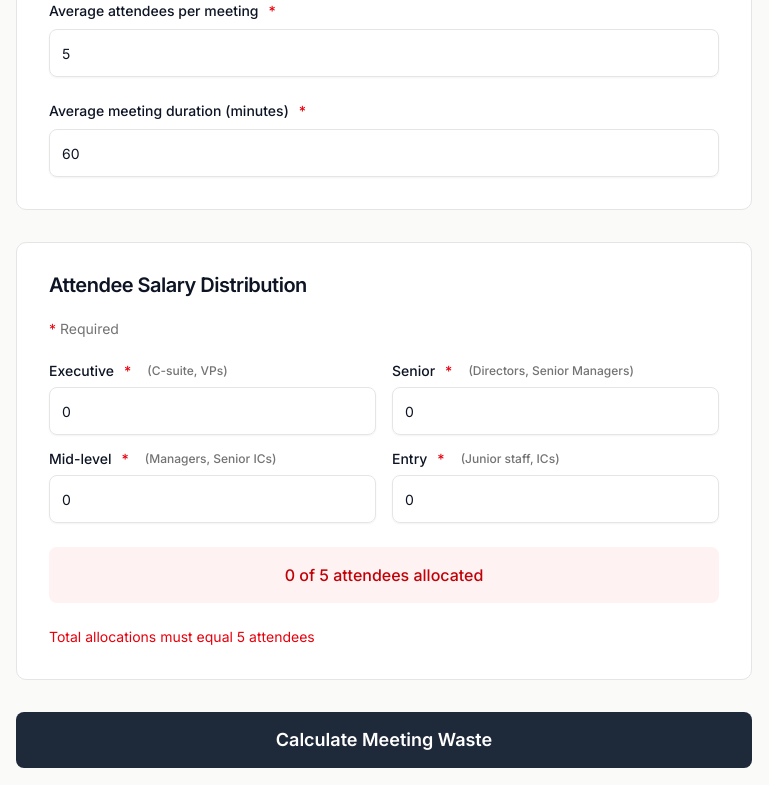
Test: CalculatorPage › form submission › shows validation error and disables button after invalid submission
The width and height of the screenshot is (769, 785).
(page scrolled)
// First click - validation runs, button becomes disabled afterward
Click the button "Calculate Meeting Waste": (384, 740) [16,712,752,768]
(page scrolled)
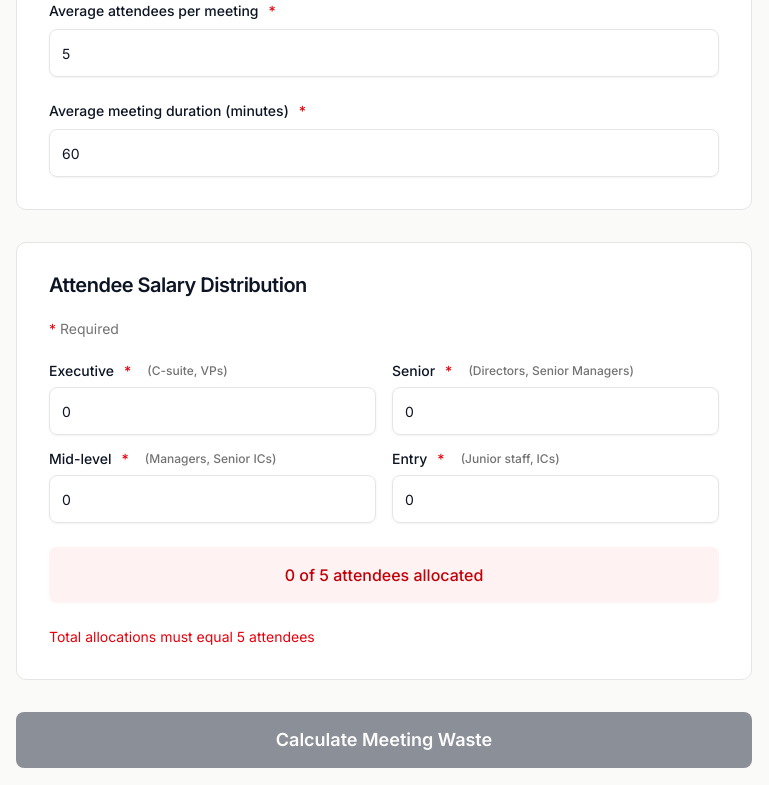
Expected: the button "Calculate Meeting Waste" is disabled, [16,712,752,768]
